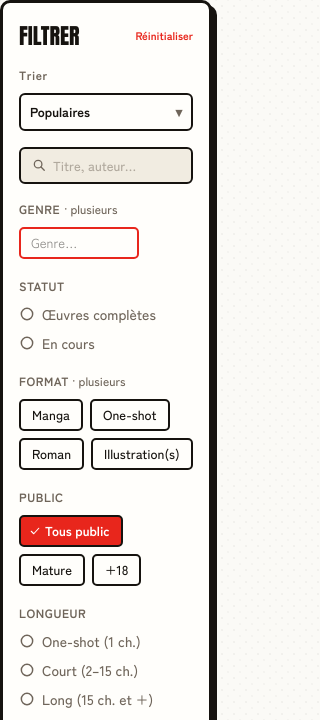
FilterSidebar (DR-2 FE-4, round 2 — auto-apply, no "Appliquer") › TRIER options are Populaires / Nouveautés / Mieux notées
This screenshot has width=320, height=720.
Click the dropdown named "Trier": (106,112) [19,93,193,130]
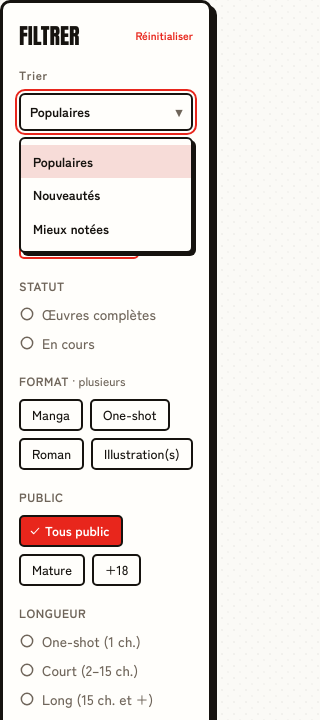
expect the options read "Populaires", "Nouveautés", "Mieux notées", in this order: met, box [21,144,191,178]; [33,185,100,204]; [33,218,109,238]
